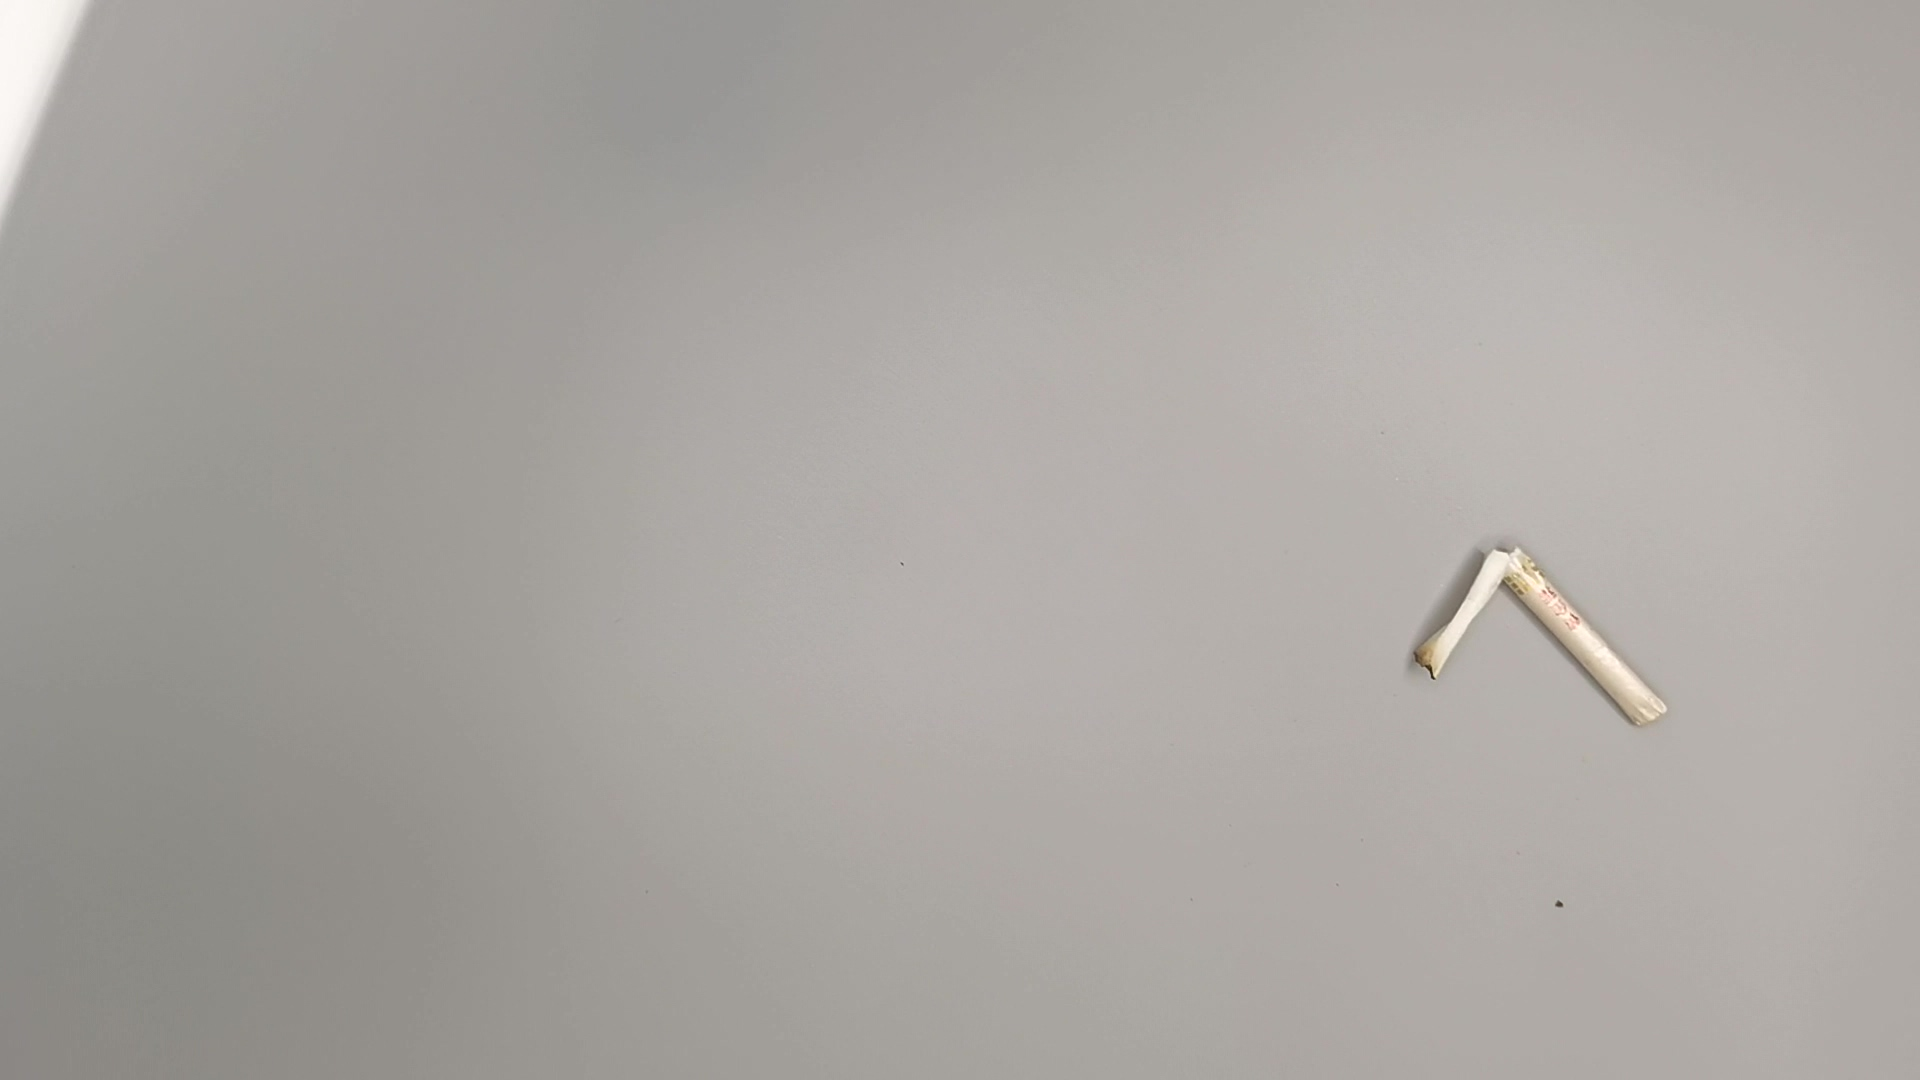cigarette: (1422, 537, 1681, 745)
